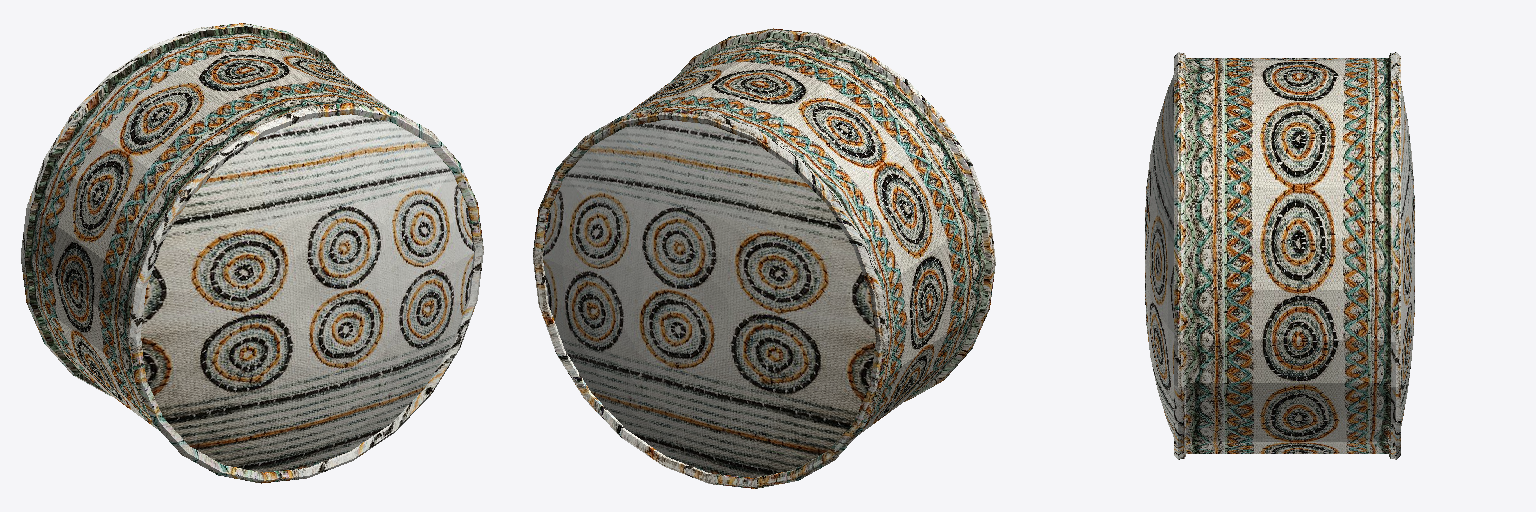
3 renders of one model, left to right at view 1: azimuth 30°, elevation 25°; view 2: azimuth 150°, elevation 25°; view 3: azimuth 270°, elevation 25°, orthographic.
Visible parts, largest first — view 1: Mesh1 Group1 pufe1 Model, Mesh10 Group10 Group_37_3 pufe1 Model, Mesh7 Group7 Group_37_2 pufe1 Model, Mesh9 Group9 Group_37_3 pufe1 Model, Mesh6 Group6 Group_37_2 pufe1 Model, Mesh12 Group12 Group_37_4 pufe1 Model, Mesh3 Group3 Group_37_1 pufe1 Model, Mesh11 Group11 Group_37_3 pufe1 Model, Mesh8 Group8 Group_37_2 pufe1 Model; view 2: Mesh2 Group2 pufe1 Model, Mesh10 Group10 Group_37_3 pufe1 Model, Mesh7 Group7 Group_37_2 pufe1 Model, Mesh11 Group11 Group_37_3 pufe1 Model, Mesh8 Group8 Group_37_2 pufe1 Model, Mesh14 Group14 Group_37_4 pufe1 Model, Mesh5 Group5 Group_37_1 pufe1 Model, Mesh9 Group9 Group_37_3 pufe1 Model, Mesh6 Group6 Group_37_2 pufe1 Model; view 3: Mesh4 Group4 Group_37_1 pufe1 Model, Mesh7 Group7 Group_37_2 pufe1 Model, Mesh1 Group1 pufe1 Model, Mesh2 Group2 pufe1 Model, Mesh5 Group5 Group_37_1 pufe1 Model, Mesh3 Group3 Group_37_1 pufe1 Model, Mesh13 Group13 Group_37_4 pufe1 Model, Mesh8 Group8 Group_37_2 pufe1 Model, Mesh6 Group6 Group_37_2 pufe1 Model.
Part boxes in pixels (x1,y1,x2,y2): Mesh1 Group1 pufe1 Model: (141, 114, 473, 472); Mesh10 Group10 Group_37_3 pufe1 Model: (30, 119, 178, 431); Mesh7 Group7 Group_37_2 pufe1 Model: (81, 32, 390, 190); Mesh9 Group9 Group_37_3 pufe1 Model: (128, 191, 188, 454); Mesh6 Group6 Group_37_2 pufe1 Model: (179, 102, 431, 198); Mesh12 Group12 Group_37_4 pufe1 Model: (182, 388, 431, 483); Mesh3 Group3 Group_37_1 pufe1 Model: (425, 132, 483, 392); Mesh11 Group11 Group_37_3 pufe1 Model: (21, 113, 79, 375); Mesh8 Group8 Group_37_2 pufe1 Model: (73, 23, 324, 118); Mesh2 Group2 pufe1 Model: (543, 120, 875, 477); Mesh10 Group10 Group_37_3 pufe1 Model: (838, 125, 985, 436); Mesh7 Group7 Group_37_2 pufe1 Model: (626, 37, 935, 195); Mesh11 Group11 Group_37_3 pufe1 Model: (827, 196, 888, 459); Mesh8 Group8 Group_37_2 pufe1 Model: (585, 107, 836, 203); Mesh14 Group14 Group_37_4 pufe1 Model: (585, 394, 834, 488); Mesh5 Group5 Group_37_1 pufe1 Model: (533, 137, 591, 398); Mesh9 Group9 Group_37_3 pufe1 Model: (936, 119, 995, 381); Mesh6 Group6 Group_37_2 pufe1 Model: (691, 28, 943, 123); Mesh4 Group4 Group_37_1 pufe1 Model: (1186, 188, 1387, 441); Mesh7 Group7 Group_37_2 pufe1 Model: (1186, 58, 1387, 187); Mesh1 Group1 pufe1 Model: (1145, 75, 1173, 436); Mesh2 Group2 pufe1 Model: (1401, 86, 1414, 425); Mesh5 Group5 Group_37_1 pufe1 Model: (1388, 186, 1400, 447); Mesh3 Group3 Group_37_1 pufe1 Model: (1174, 186, 1185, 447); Mesh13 Group13 Group_37_4 pufe1 Model: (1186, 442, 1387, 453); Mesh8 Group8 Group_37_2 pufe1 Model: (1388, 52, 1400, 187); Mesh6 Group6 Group_37_2 pufe1 Model: (1174, 52, 1186, 186).
Bounding box in the file's own units: 0.609 × 0.609 × 0.4018.
Materials: 2 (2 with a texture image).